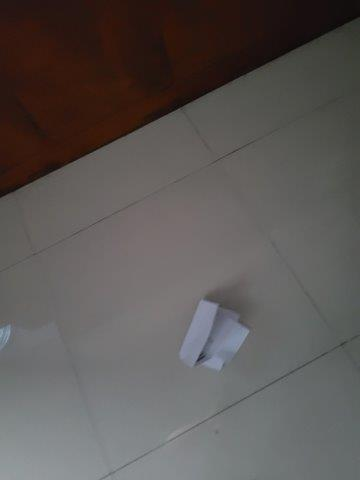kertas: (178, 299, 252, 372)
